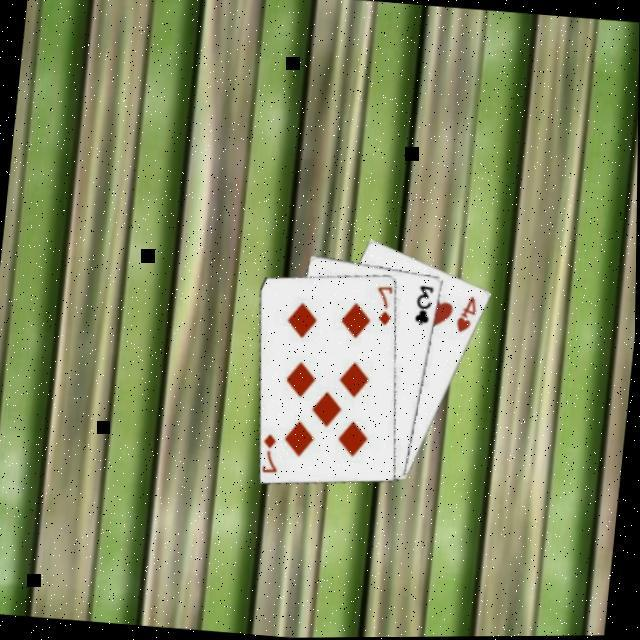3C: (411, 283, 437, 329)
4H: (452, 294, 481, 338)
7D: (371, 285, 397, 331), (258, 431, 284, 477)
